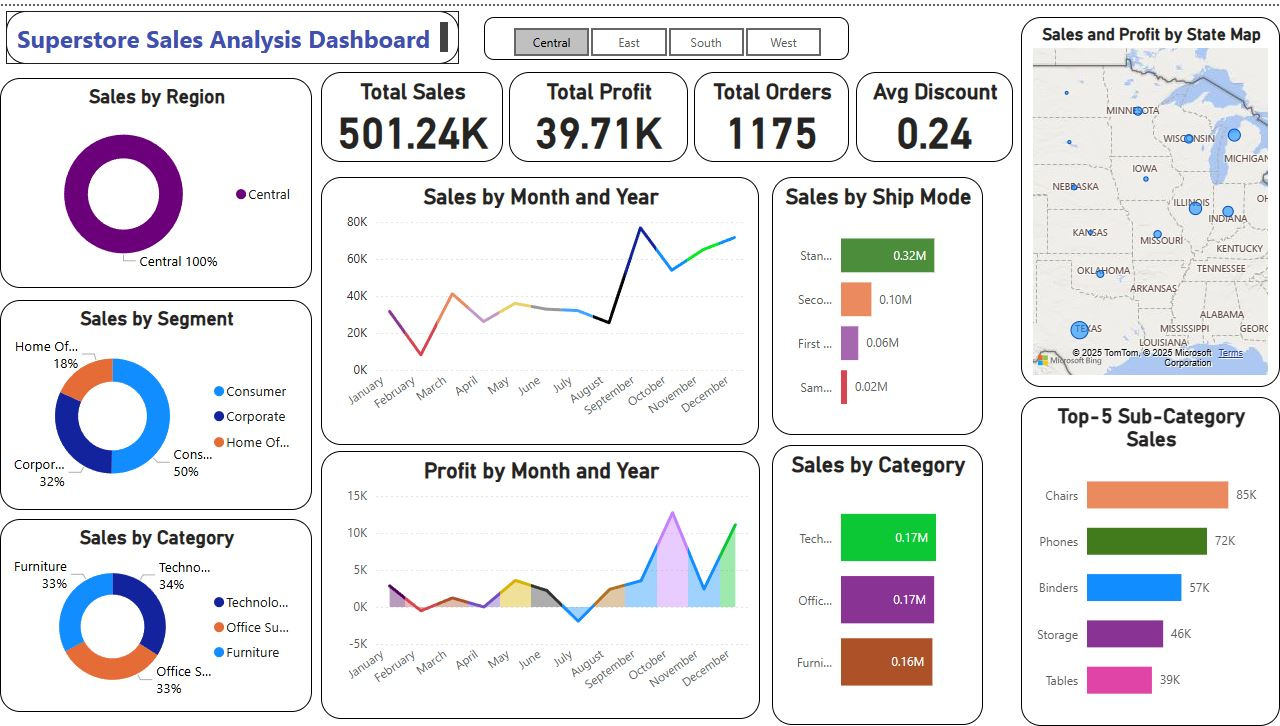

The page's visual inventory and layout, read from the dashboard file:
{"tool":"powerbi","page":{"name":"Page 1","canvas":[1280,720],"ordinal":0},"visuals":[{"type":"card","title":"Total Sales","fields":{"Values":["Sum(Sample - Superstore.Sales)"]},"box":[321.4,65.5,181.3,90.7],"z":0},{"type":"textbox","box":[6.3,5.4,453.4,53],"z":1000},{"type":"card","title":"Total Profit","fields":{"Values":["Sum(Sample - Superstore.Profit)"]},"box":[509,65.5,178.7,90.7],"z":2000},{"type":"card","title":"Total Orders","fields":{"Values":["Count(Sample - Superstore.Order ID)"]},"box":[694,65.5,155.3,90.7],"z":3000},{"type":"card","title":"Avg Discount","fields":{"Values":["Avg(Sample - Superstore.Discount)"]},"box":[856.5,65.5,156.2,90.7],"z":4000},{"type":"slicer","fields":{"Values":["Sample - Superstore.Region"]},"box":[483.9,10.8,365.4,43.1],"z":5000},{"type":"donutChart","title":" Sales by Region","fields":{"Category":["Sample - Superstore.Region"],"Y":["Sum(Sample - Superstore.Sales)"]},"box":[0,71.8,312.4,210.1],"z":6000},{"type":"donutChart","title":"Sales by Segment","fields":{"Category":["Sample - Superstore.Segment"],"Y":["Sum(Sample - Superstore.Sales)"]},"box":[0,293.6,312.4,210.1],"z":7000},{"type":"donutChart","title":"Sales by Category","fields":{"Category":["Sample - Superstore.Category"],"Y":["Sum(Sample - Superstore.Sales)"]},"box":[0,512.6,312.4,193],"z":8000},{"type":"clusteredBarChart","title":"Sales by Ship Mode","fields":{"Category":["Sample - Superstore.Ship Mode"],"Y":["Sum(Sample - Superstore.Sales)"]},"box":[772.1,170.6,211,258.6],"z":9000},{"type":"lineChart","title":"Sales by Month and Year","fields":{"Category":["Sample - Superstore.Order Date.Variation.Date Hierarchy.Month"],"Y":["Sum(Sample - Superstore.Sales)"]},"box":[321.4,170.6,437.2,268.4],"z":10000},{"type":"map","title":"Sales and Profit by State Map","fields":{"Category":["Sample - Superstore.State"],"Size":["Sum(Sample - Superstore.Sales)"]},"box":[1020.7,10.8,259.5,369.9],"z":11000},{"type":"clusteredBarChart","title":"Top-5 Sub-Category Sales","fields":{"Category":["Sample - Superstore.Sub-Category"],"Y":["Sum(Sample - Superstore.Sales)"]},"box":[1020.7,390.5,259.5,329.5],"z":12000},{"type":"areaChart","title":"Profit by Month and Year","fields":{"Category":["Sample - Superstore.Order Date.Variation.Date Hierarchy.Month"],"Y":["Sum(Sample - Superstore.Profit)"]},"box":[321.4,445.3,438.1,267.5],"z":13000},{"type":"clusteredBarChart","title":"Sales by Category","fields":{"Category":["Sample - Superstore.Category"],"Y":["Sum(Sample - Superstore.Sales)"]},"box":[772.1,439,211,280.1],"z":14000}]}

Visuals, with their boxes in screenshot pixels (x1, y1, x2, y2), scaled from the page's 1280x720 canvas onto the 1280x726 screenshot:
"Total Sales" card: bbox(321, 66, 503, 158)
textbox: bbox(6, 5, 460, 59)
"Total Profit" card: bbox(509, 66, 688, 158)
"Total Orders" card: bbox(694, 66, 849, 158)
"Avg Discount" card: bbox(856, 66, 1013, 158)
slicer - Sample - Superstore.Region: bbox(484, 11, 849, 54)
" Sales by Region" donutChart: bbox(0, 72, 312, 284)
"Sales by Segment" donutChart: bbox(0, 296, 312, 508)
"Sales by Category" donutChart: bbox(0, 517, 312, 711)
"Sales by Ship Mode" clusteredBarChart: bbox(772, 172, 983, 433)
"Sales by Month and Year" lineChart: bbox(321, 172, 759, 443)
"Sales and Profit by State Map" map: bbox(1021, 11, 1279, 384)
"Top-5 Sub-Category Sales" clusteredBarChart: bbox(1021, 394, 1279, 725)
"Profit by Month and Year" areaChart: bbox(321, 449, 760, 719)
"Sales by Category" clusteredBarChart: bbox(772, 443, 983, 725)
